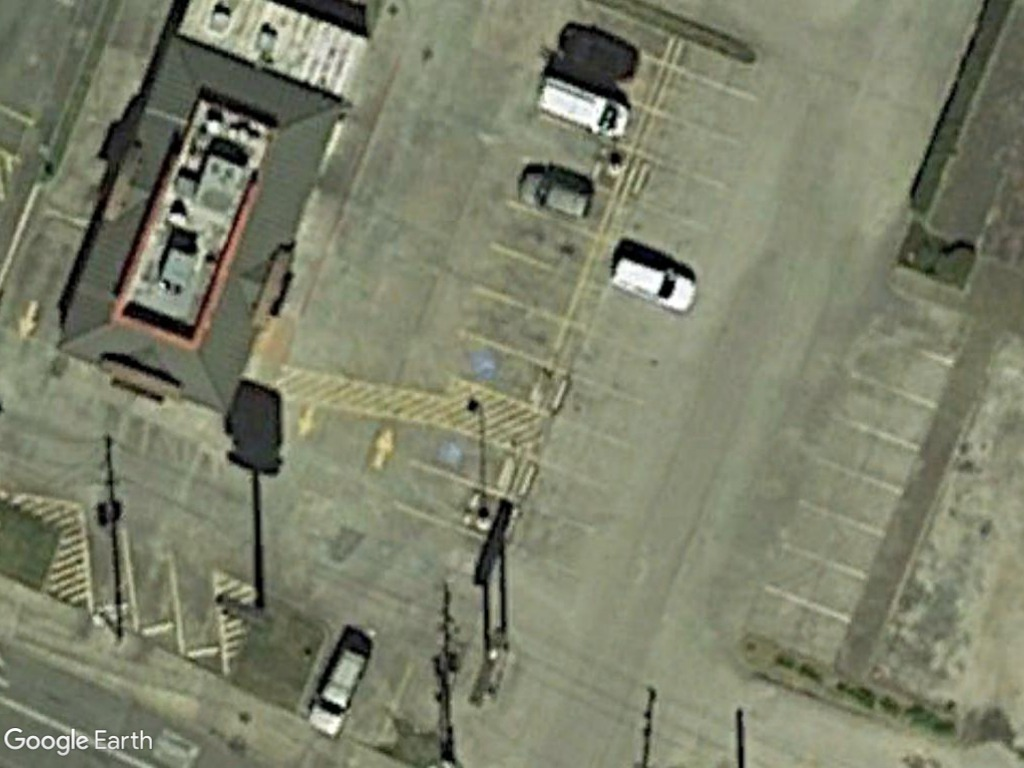car: (603, 253, 704, 321), (513, 167, 601, 224)
van: (301, 638, 376, 741), (535, 70, 632, 144)
